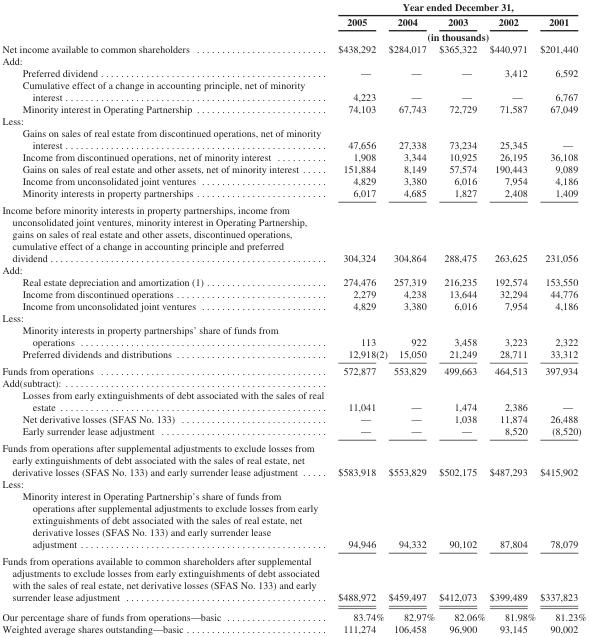table: (1, 0, 585, 634)
table column: (1, 0, 330, 634), (330, 0, 387, 634), (486, 0, 537, 634), (436, 0, 486, 634), (387, 0, 436, 634), (537, 0, 585, 634)
table column header: (1, 0, 585, 43)
table projected row header: (1, 55, 585, 67), (1, 115, 585, 127), (1, 264, 585, 276), (1, 311, 585, 323), (1, 377, 585, 389), (1, 478, 585, 490)
table row: (1, 201, 585, 264), (1, 490, 585, 552), (1, 552, 585, 606), (1, 439, 585, 478), (1, 79, 585, 103), (1, 127, 585, 151), (1, 323, 585, 347), (1, 389, 585, 413), (1, 606, 585, 622), (1, 14, 585, 29), (1, 186, 585, 201), (1, 347, 585, 362), (1, 362, 585, 377), (1, 424, 585, 439), (1, 0, 585, 14), (1, 29, 585, 43), (1, 43, 585, 55), (1, 55, 585, 67), (1, 67, 585, 79), (1, 103, 585, 115), (1, 115, 585, 127), (1, 151, 585, 163), (1, 174, 585, 186), (1, 264, 585, 276), (1, 276, 585, 288), (1, 299, 585, 311), (1, 311, 585, 323), (1, 377, 585, 389), (1, 478, 585, 490), (1, 622, 585, 634), (1, 163, 585, 174), (1, 288, 585, 299), (1, 413, 585, 424)
table spanning cell: (330, 0, 585, 14), (330, 29, 585, 43)
